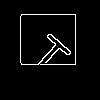T: (25, 25, 79, 80)
